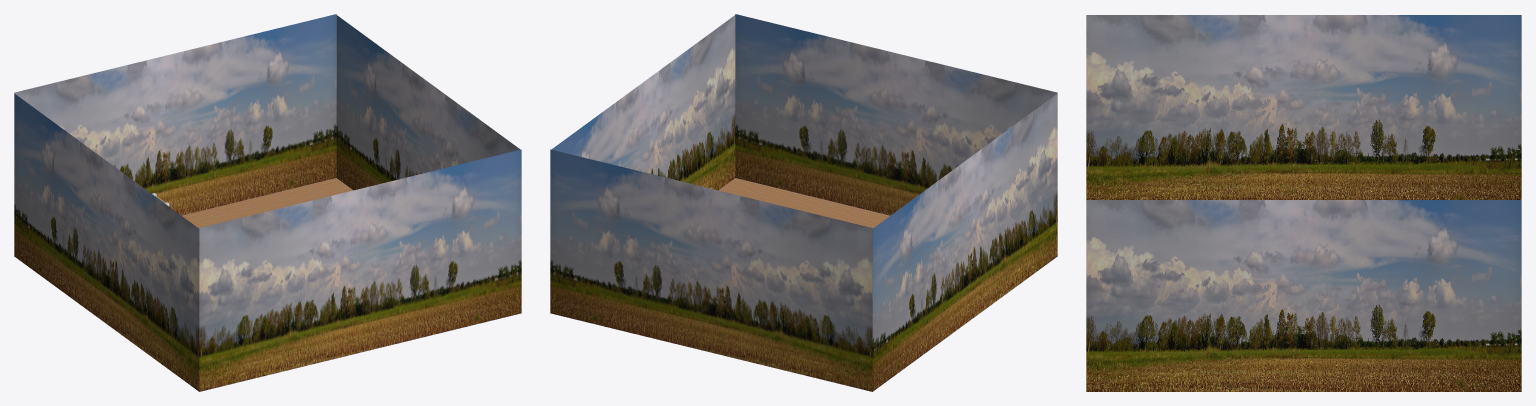
Rendered from Squid Game Env.fbx.
3 views of the same model, side by side, from view 1: azimuth 30°, elevation 25°; view 2: azimuth 150°, elevation 25°; view 3: azimuth 270°, elevation 25° (orthographic). The views are drawn at different scales.
Visible parts, largest first — view 1: Wall_02, Wall_04, Wall_03, Wall_01, Sand_Ground; view 2: Wall_04, Wall_02, Wall_03, Wall_01, Sand_Ground; view 3: Wall_01, Wall_03.
Boxes of the visible parts, x1,y1,x2,y2 form: Wall_02: (199, 149, 521, 391); Wall_04: (14, 14, 336, 215); Wall_03: (14, 93, 199, 391); Wall_01: (336, 15, 520, 190); Sand_Ground: (182, 178, 353, 228); Wall_04: (550, 149, 872, 391); Wall_02: (735, 14, 1057, 215); Wall_03: (872, 93, 1057, 391); Wall_01: (551, 15, 735, 190); Sand_Ground: (718, 178, 889, 228); Wall_01: (1086, 200, 1521, 391); Wall_03: (1086, 15, 1521, 199).
Size of the model in its own units: 96 by 46.68 by 95.52.
